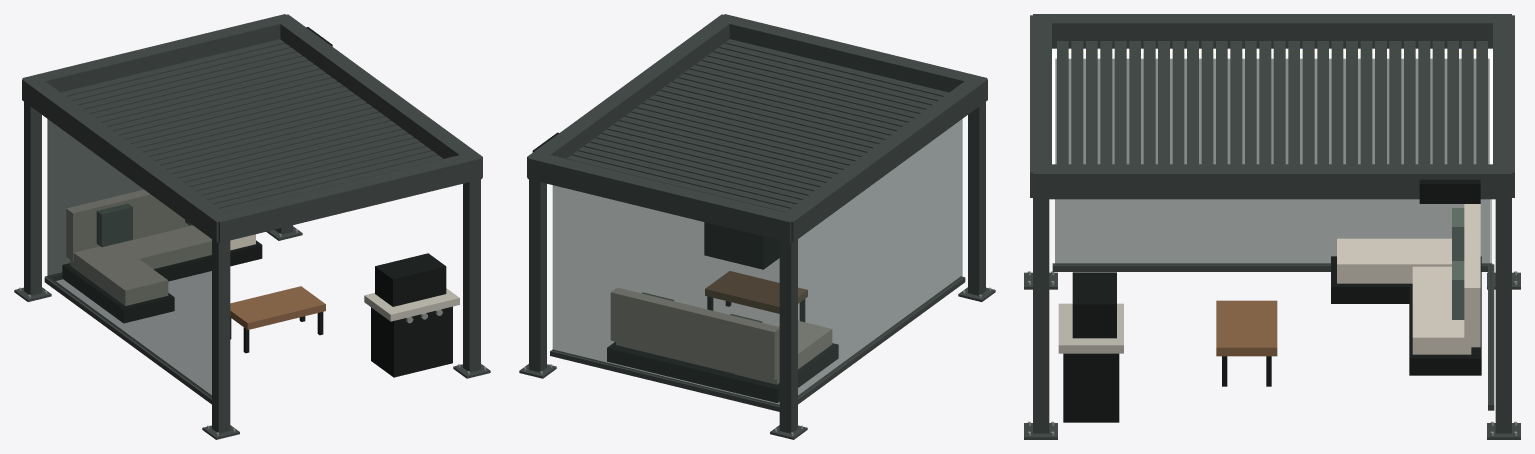
File: coordinatez-axis-10x13-carbon.glb
The picture shows the model from 3 angles, left to right: view 1: azimuth 30°, elevation 25°; view 2: azimuth 150°, elevation 25°; view 3: azimuth 270°, elevation 25°; orthographic projection. The views are drawn at different scales.
Visible parts, largest first — view 1: Left motorized wall, Structural post (×3), Front motor beam, Left beam, Rear drainage beam, Right beam, Rear motorized wall, BBQ cabinet, Chaise cushion, Sofa back, BBQ hood, Sofa seat (+34 smaller); view 2: Rear motorized wall, Left motorized wall, Structural post (×3), Sofa back, Rear drainage beam, Left beam, Front motor beam, Right beam, Sofa base, BBQ cabinet, Coffee table top, Rear wall bottom rail (+31 smaller); view 3: Left motorized wall, Right beam, Left beam, Structural post (×2), Chaise cushion, Sofa seat, BBQ cabinet, Coffee table top, Front motor beam, Rear drainage beam, BBQ hood, Left wall bottom rail (+38 smaller).
Part boxes in pixels (x1,y1,x2,y2): Left motorized wall: (47,119,211,397); Structural post (×3): (24,102,480,433); Front motor beam: (211,153,482,242); Left beam: (22,79,230,242); Rear drainage beam: (22,14,293,92); Right beam: (275,14,482,177); Rear motorized wall: (48,120,142,276); BBQ cabinet: (371,306,452,377); Chaise cushion: (70,243,167,305); Sofa back: (66,190,189,260); BBQ hood: (375,253,446,306); Sofa seat: (119,225,255,268); Rear motorized wall: (552,185,779,405); Left motorized wall: (798,119,962,397); Structural post (×3): (529,102,985,433); Sofa back: (611,288,779,380); Rear drainage beam: (527,154,798,242); Left beam: (779,79,987,242); Front motor beam: (716,14,987,92); Right beam: (527,14,733,177); Sofa base: (607,342,799,402); BBQ cabinet: (704,222,779,269); Coffee table top: (705,271,807,313); Rear wall bottom rail: (550,349,779,411); Left motorized wall: (1055,58,1489,264); Right beam: (1033,164,1511,199); Left beam: (1033,14,1511,48); Structural post (×2): (1033,199,1511,433); Chaise cushion: (1337,238,1451,283); Sofa seat: (1412,266,1471,354); BBQ cabinet: (1063,353,1119,422); Coffee table top: (1216,300,1277,356); Front motor beam: (1030,15,1051,197); Rear drainage beam: (1493,15,1514,197); BBQ hood: (1072,272,1116,338); Left wall bottom rail: (1052,263,1492,271).
Size of the model in its own units: 3.37 by 2.49 by 4.25.
